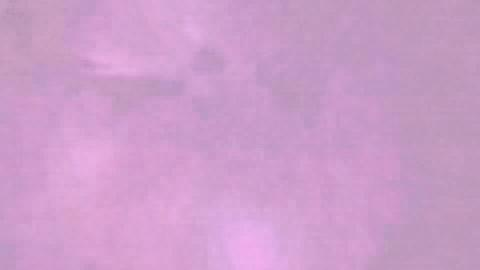tomato: (3, 119, 297, 268), (299, 140, 421, 268)
